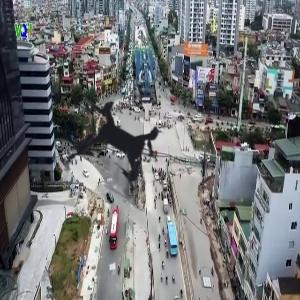drone: (31, 61, 206, 236)
